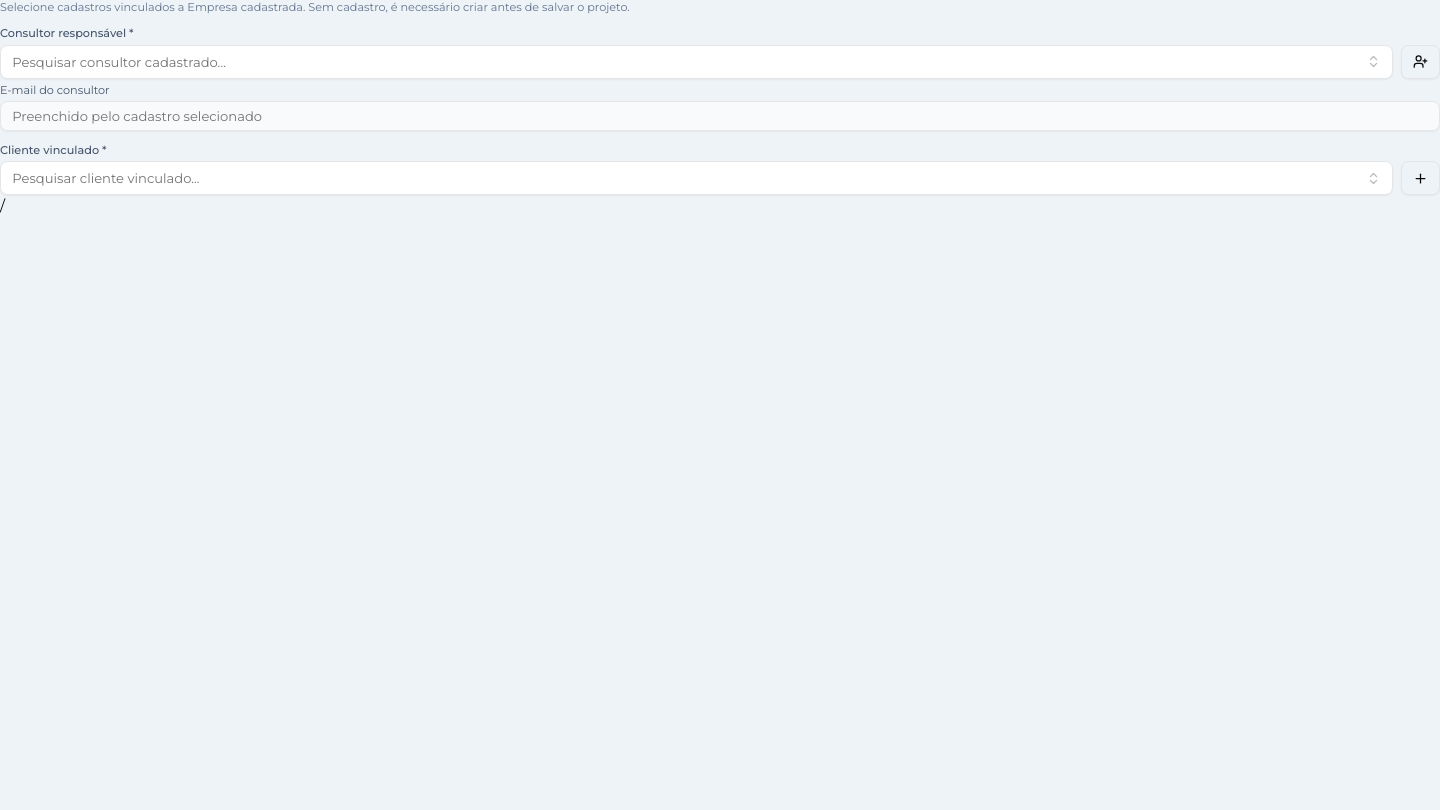
it: Consultor e cliente são cadastros vinculados reais › seleção usa IDs e preenche e-mail automaticamente
Step 1. Click the dropdown named "Consultor responsável" → (119, 62), box [0,45,1393,79]
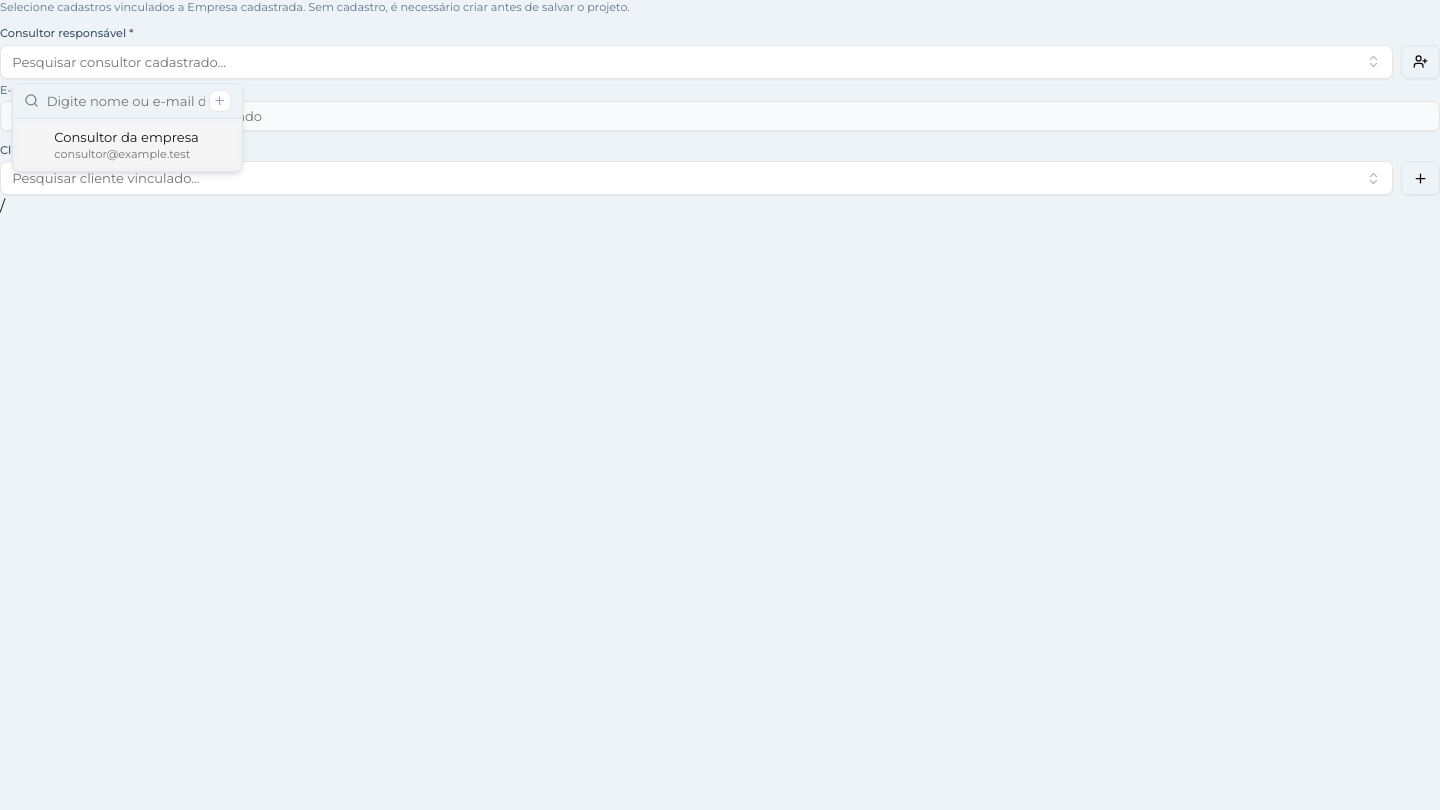
Step 2. Click the option "Consultor da empresa consultor@example.test" → (128, 145), box [17,122,239,168]
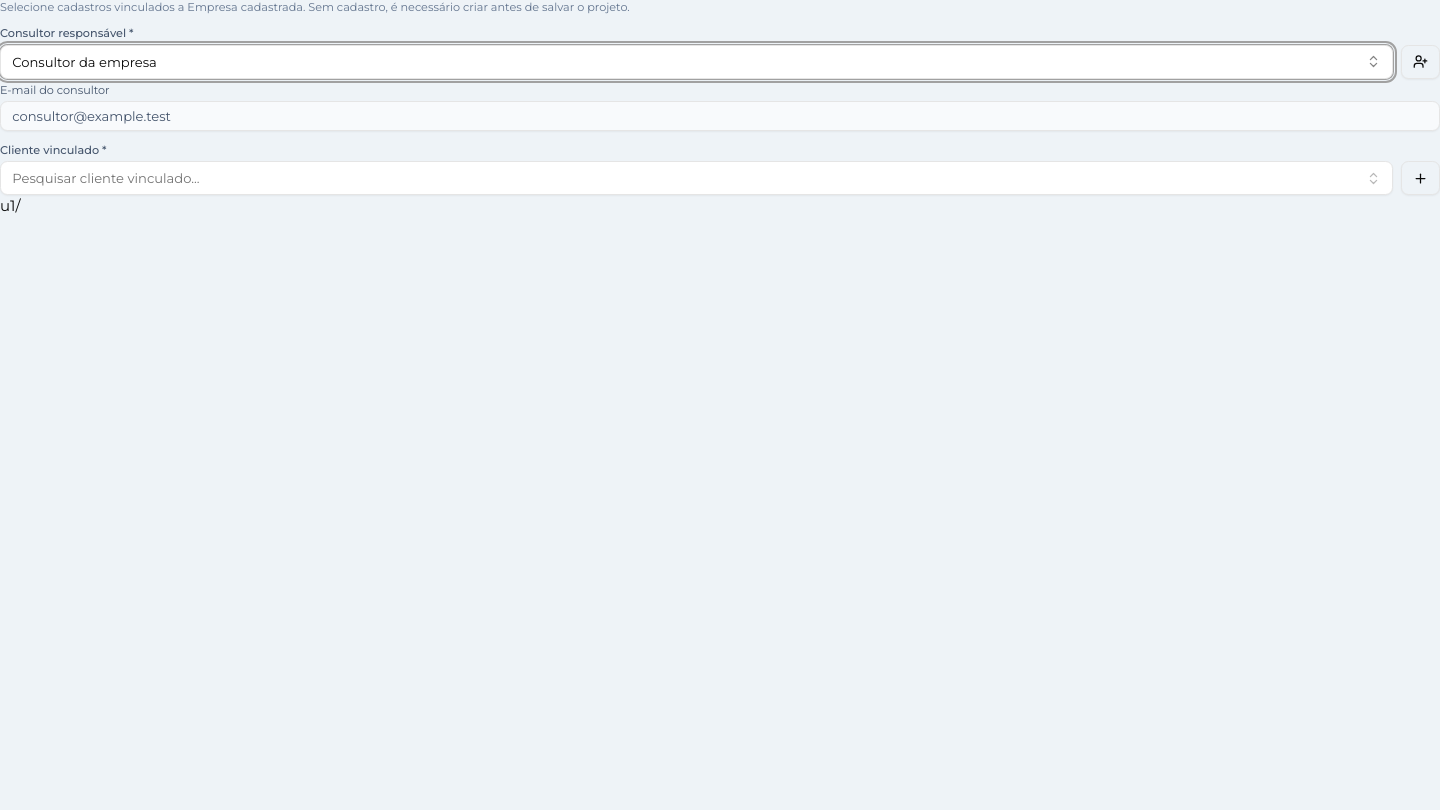
Now the field labelled "E-mail do consultor" holds "consultor@example.test", box [0,101,1439,131]
Step 3. Click the dropdown labelled "cliente vinculado" → (106, 178), box [0,161,1393,195]
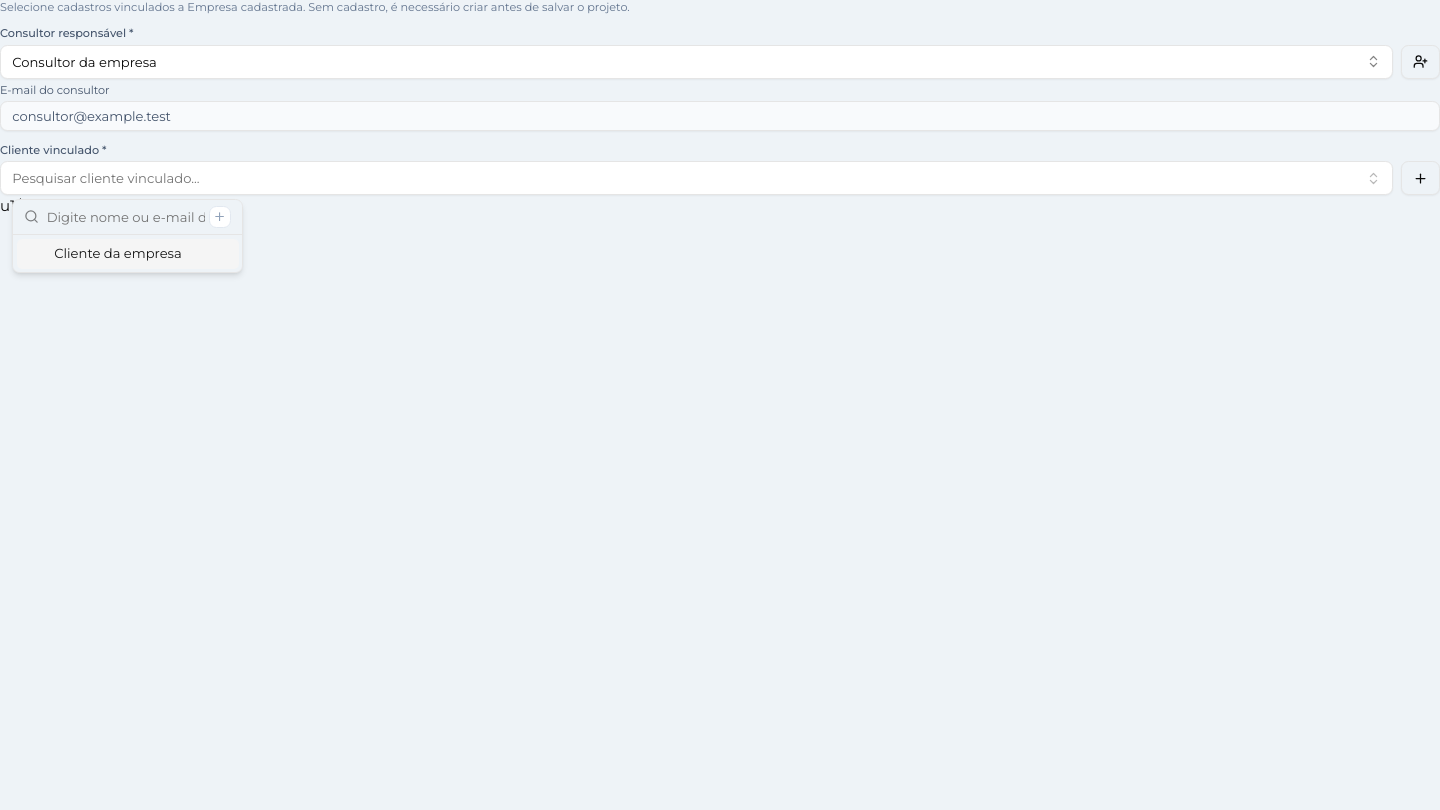
Step 4. Click the option "Cliente da empresa" → (128, 254), box [17,238,239,268]
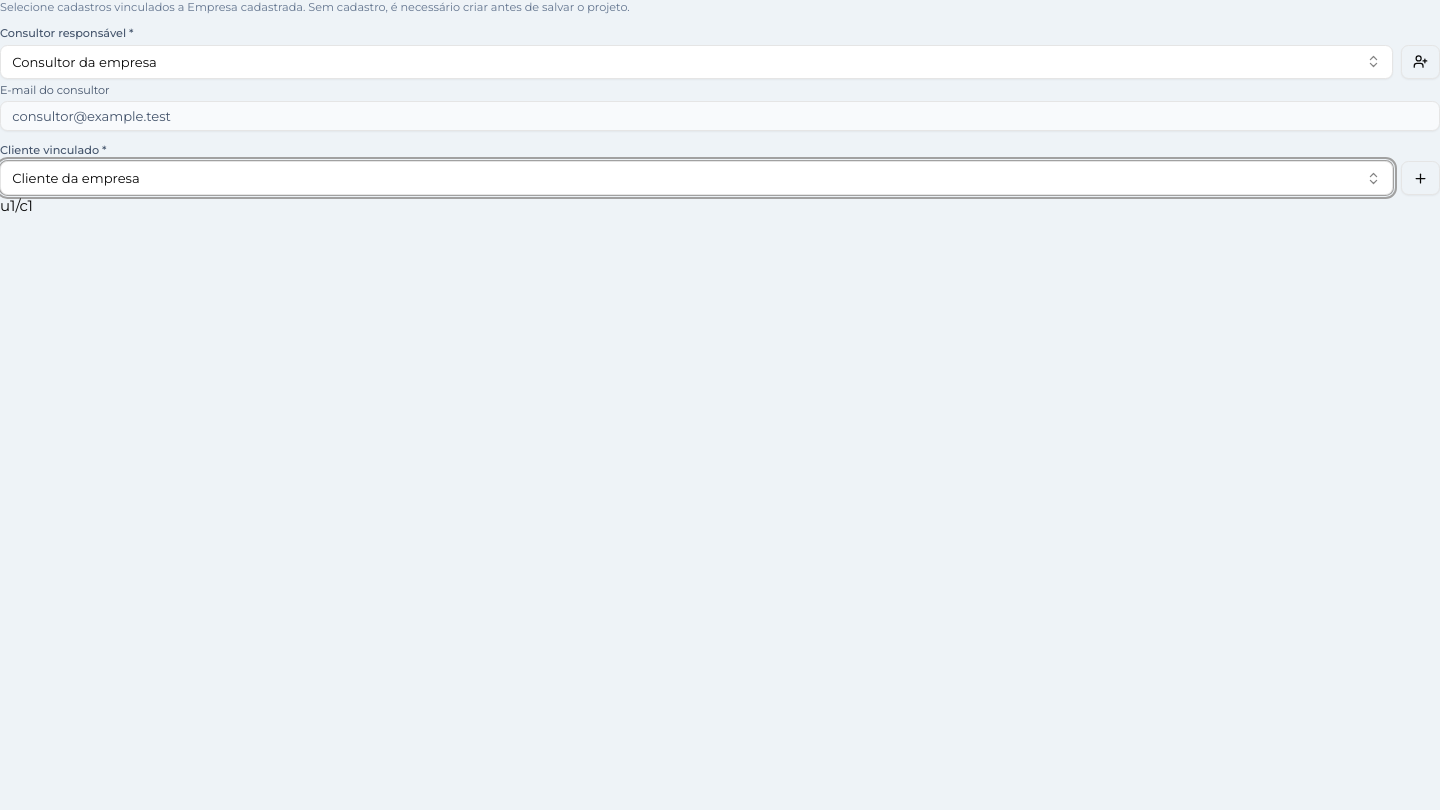
Now the text with test id "contact-ids" reads "u1/c1", box [0,196,33,215]
